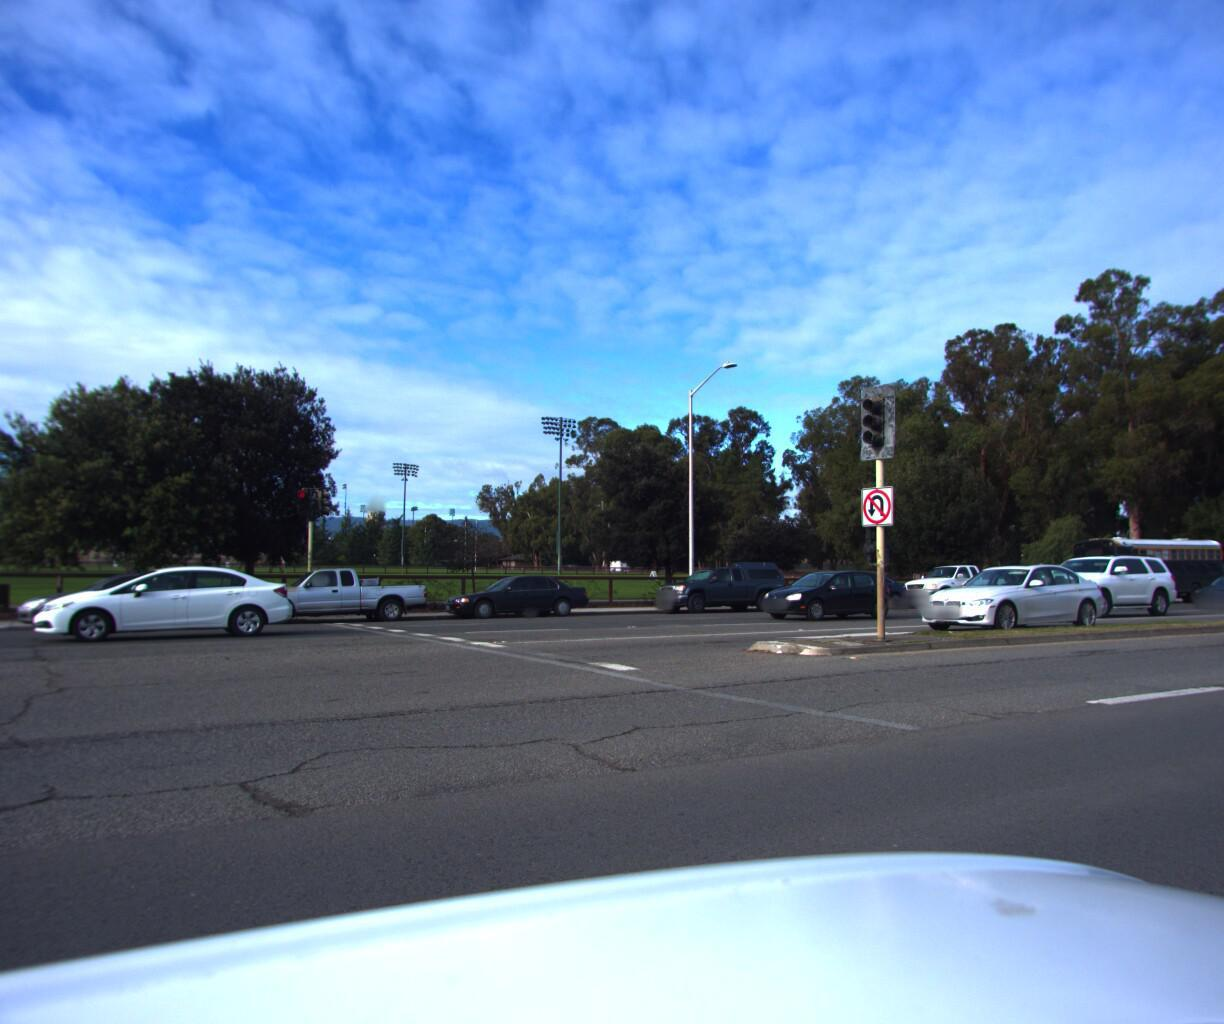bus: (1052, 524, 1224, 604)
car: (24, 552, 297, 644), (0, 564, 243, 634), (912, 557, 1118, 637), (232, 560, 440, 628), (1022, 543, 1181, 615), (749, 555, 902, 618), (638, 553, 794, 613), (431, 568, 594, 623), (886, 554, 1018, 606), (788, 566, 916, 608), (1206, 562, 1224, 656), (1185, 565, 1224, 603)
